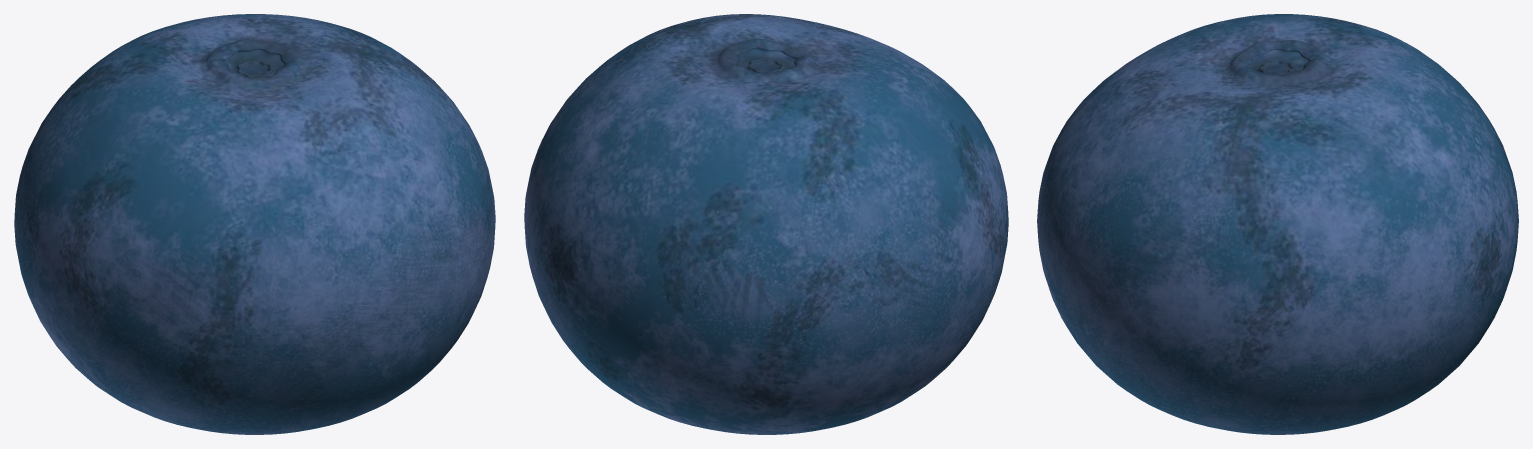
File: blueberry.glb
3 views of the same model, side by side, from view 1: azimuth 30°, elevation 25°; view 2: azimuth 150°, elevation 25°; view 3: azimuth 270°, elevation 25° (orthographic).
Parts seen in each view (by area): view 1: blueberry; view 2: blueberry; view 3: blueberry.
Boxes of the visible parts, x1,y1,x2,y2 form: blueberry: (14,14,495,434); blueberry: (524,14,1008,434); blueberry: (1037,14,1518,434).
Bounding box in the file's own units: 1 × 0.7973 × 1.
1 material, 1 textured.
